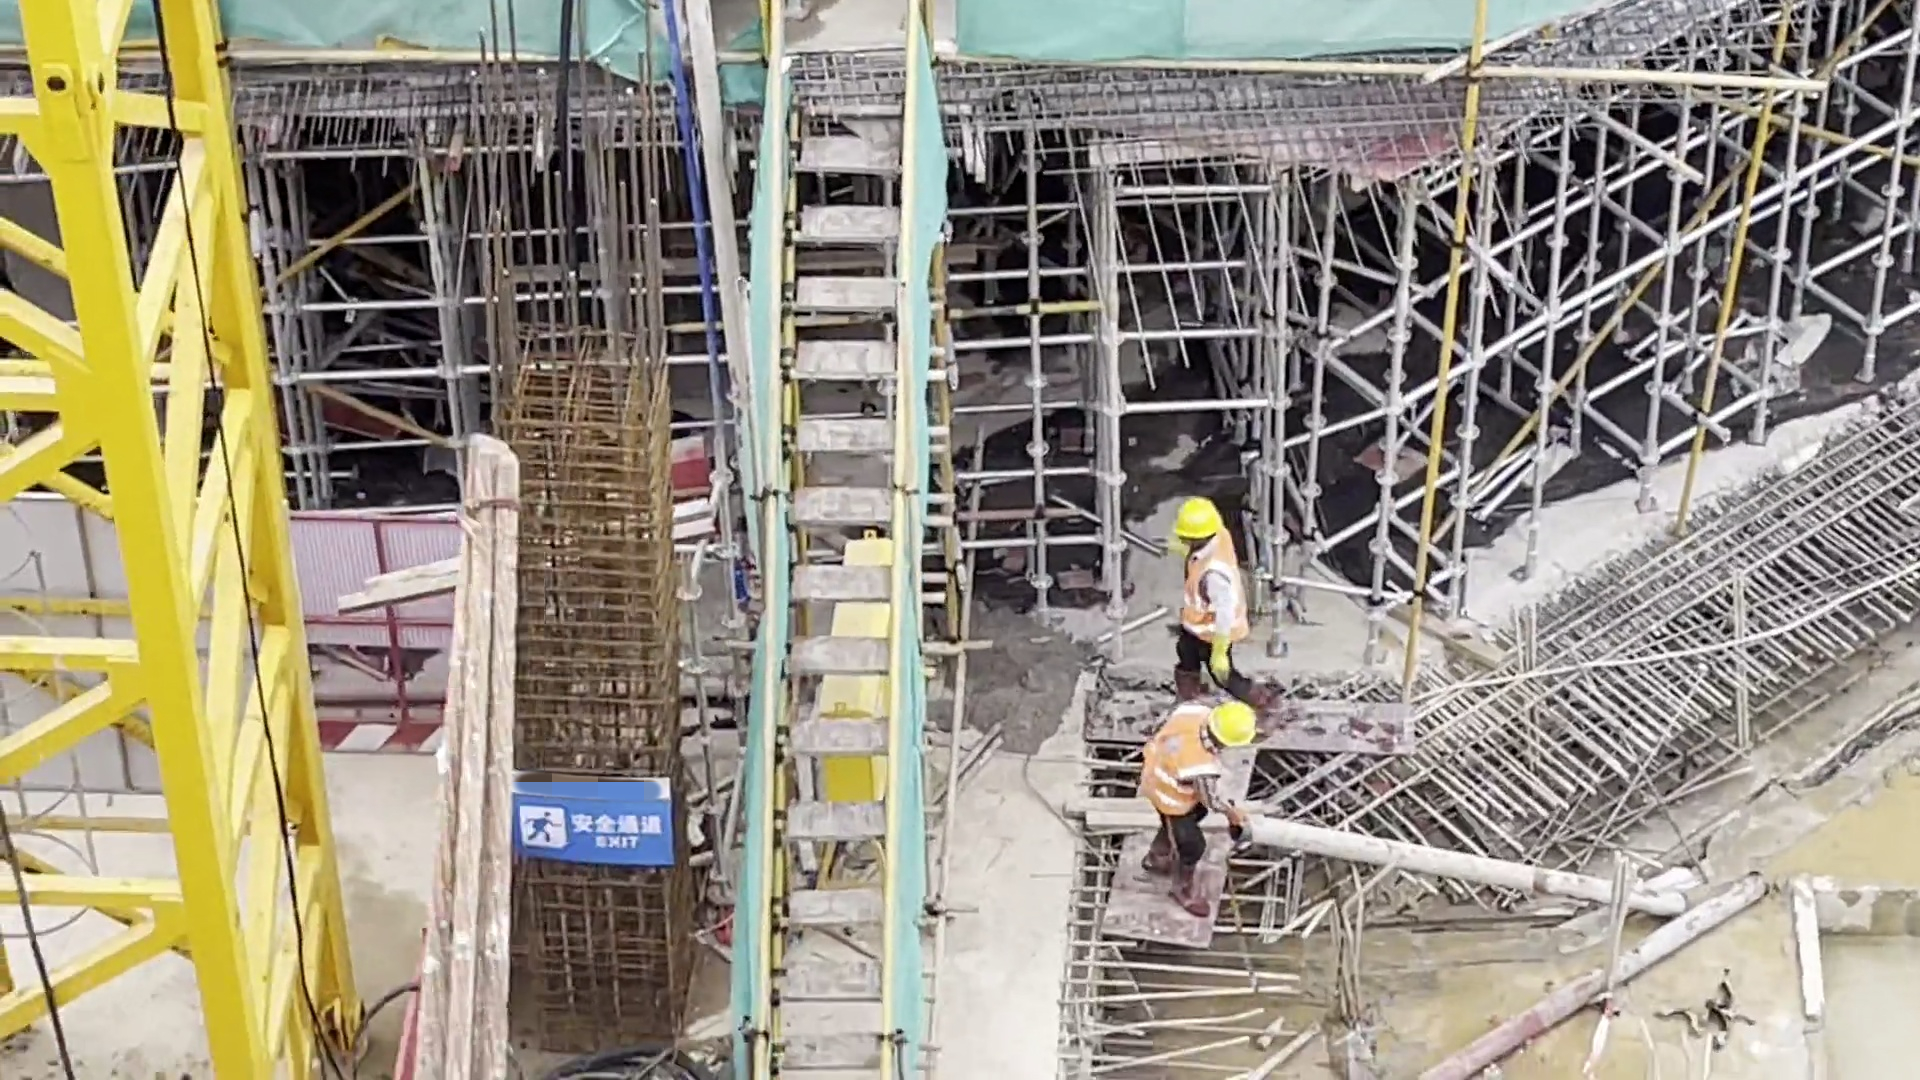ebox: (809, 539, 922, 816)
fence: (1, 495, 481, 776)
helmet: (1171, 494, 1225, 541), (1207, 705, 1256, 746)
person: (1136, 695, 1253, 917), (1162, 494, 1263, 717)
vest: (1140, 709, 1210, 819), (1184, 532, 1249, 645)
